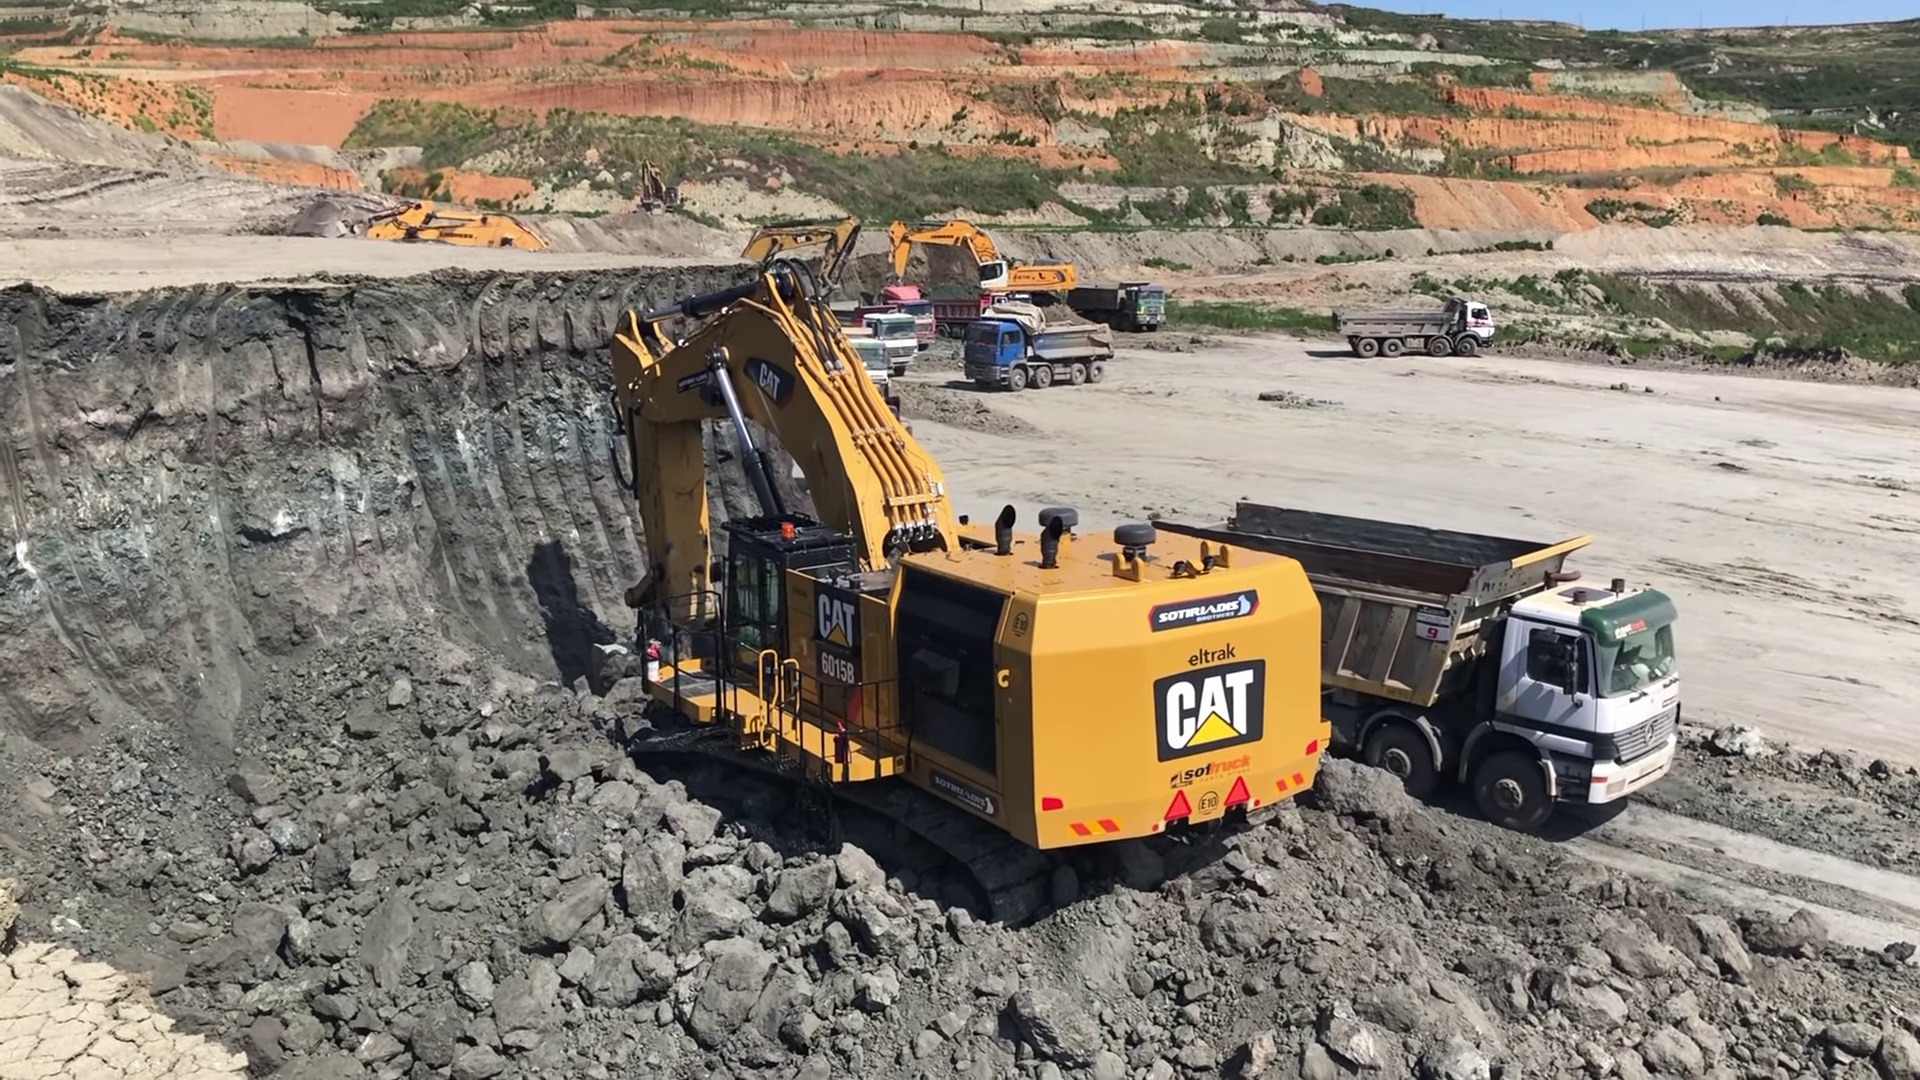excavator: (571, 261, 1337, 923), (361, 200, 556, 320), (876, 215, 1077, 310), (727, 210, 858, 326)
truck: (1178, 487, 1676, 822), (968, 313, 1106, 388), (1335, 295, 1494, 353), (856, 277, 935, 345), (1069, 281, 1171, 328)
